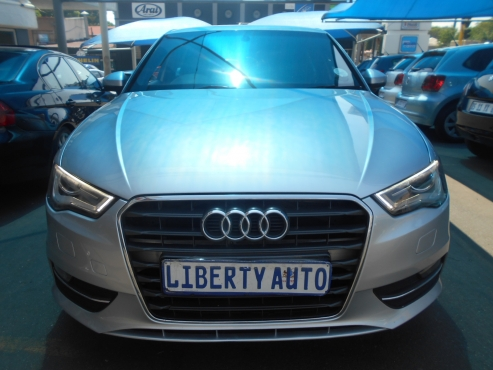audi: (194, 206, 293, 245)
